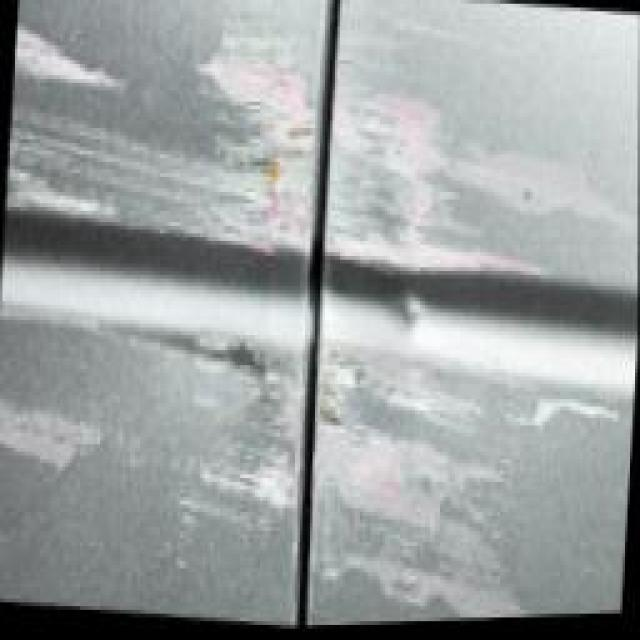Door: (302, 34, 640, 629), (0, 0, 328, 602)
